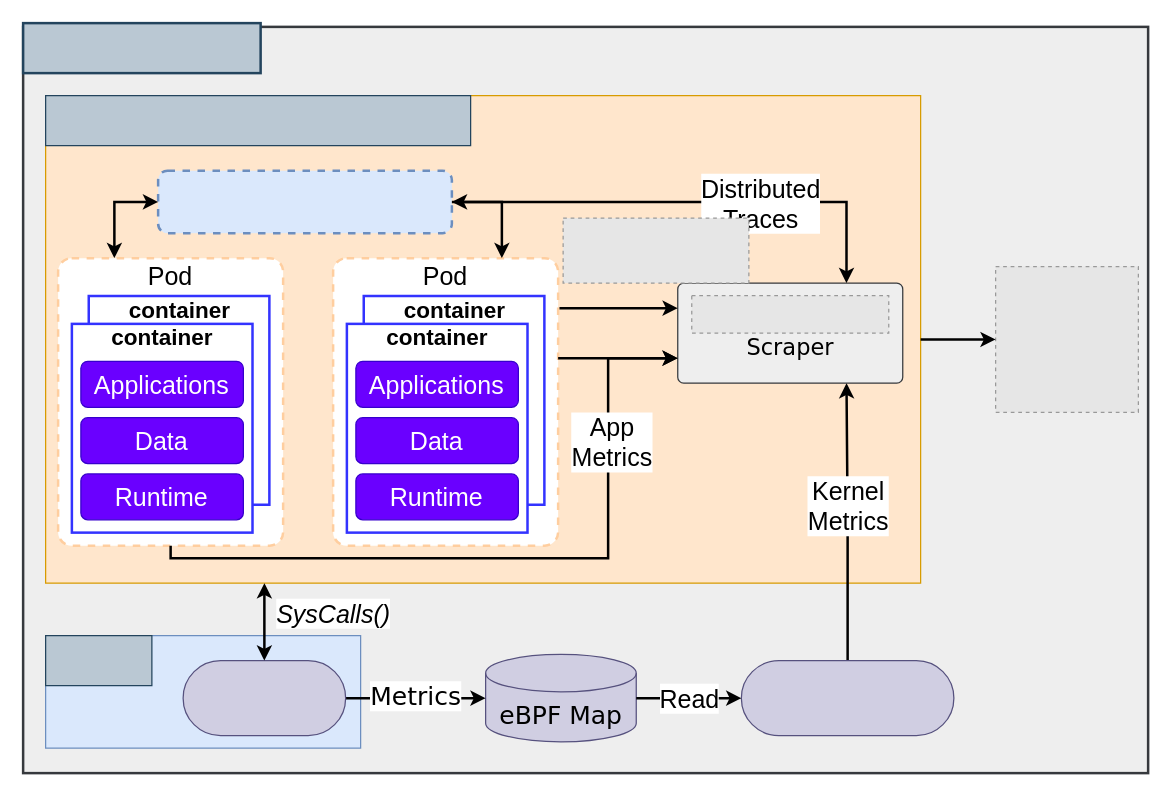
Image size: 1170x795. Some labels were removed from this diagram. Grey dashed boxes stand in for pictures. The centre of each missing label's shape, as x and y in pixels:
Container Runtime Environment: point (257, 120)
eBPF Agent: point (264, 697)
eBPF Exporter: point (847, 697)
Kernel: point (98, 660)
Kubernetes Node: point (141, 47)
Sidecar Proxy: point (304, 201)
